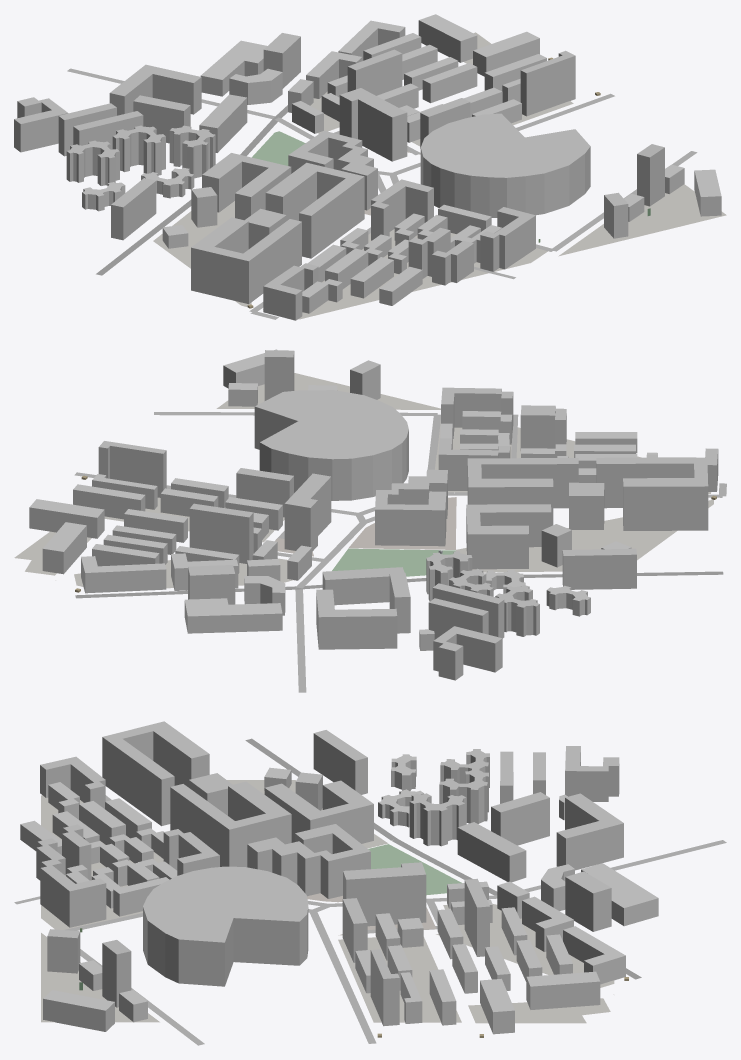
The picture shows the model from 3 angles, top to bottom: view 1: azimuth 30°, elevation 25°; view 2: azimuth 150°, elevation 25°; view 3: azimuth 270°, elevation 25°; orthographic projection. The views are drawn at different scales.
Bounding box in the file's own units: 632 × 52.51 × 622.
